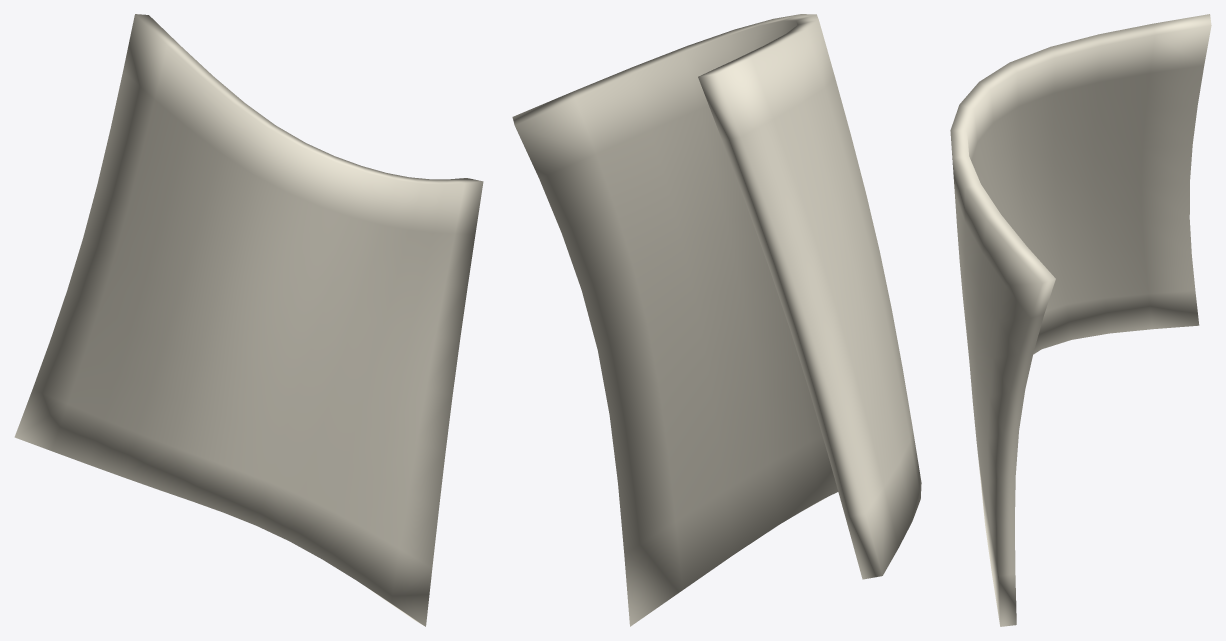
3 renders of one model, left to right at view 1: azimuth 30°, elevation 25°; view 2: azimuth 150°, elevation 25°; view 3: azimuth 270°, elevation 25°, orthographic. The views are drawn at different scales.
Parts seen in each view (by area): view 1: ZA_2ea4da4427311241; view 2: ZA_2ea4da4427311241; view 3: ZA_2ea4da4427311241.
Boxes of the visible parts, bbox=[...] form: ZA_2ea4da4427311241: bbox=[14, 14, 483, 626]; ZA_2ea4da4427311241: bbox=[512, 14, 921, 626]; ZA_2ea4da4427311241: bbox=[950, 14, 1211, 626].
Bounding box in the file's own units: 0.0123 × 0.0175 × 0.00778.
